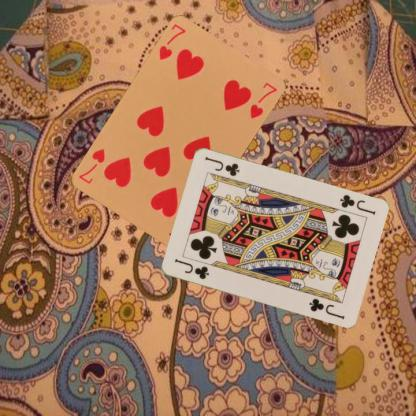7h: (156, 21, 187, 62)
Jc: (170, 256, 210, 281), (337, 192, 377, 216)
